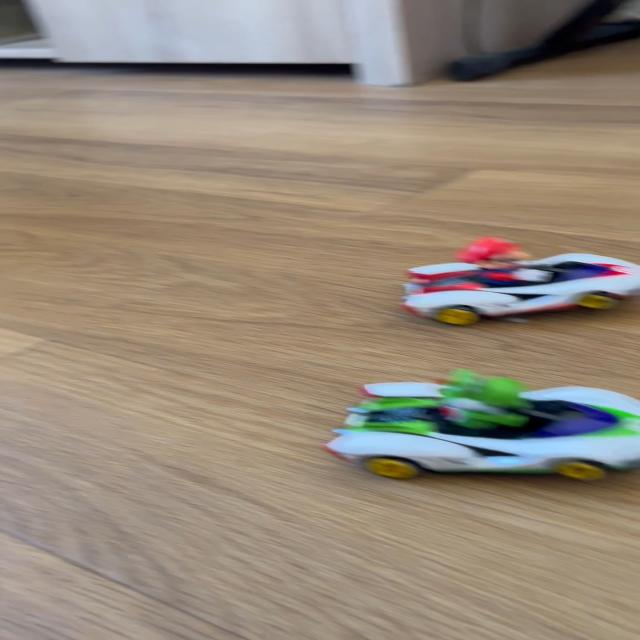mario: (390, 236, 640, 324)
yoshi: (305, 359, 635, 485)
